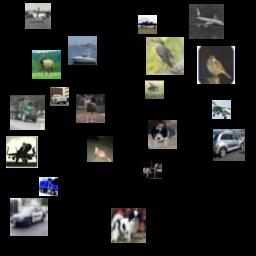airplane: (189, 4, 224, 39), (6, 136, 38, 168), (212, 100, 231, 119), (138, 15, 157, 34)
automobile: (10, 198, 48, 236), (213, 129, 245, 161), (50, 87, 69, 106)
bird: (146, 37, 184, 75), (197, 46, 235, 84)
cat: (87, 136, 113, 162)
deer: (32, 50, 61, 79), (76, 94, 105, 123), (145, 80, 164, 99)
dog: (111, 208, 146, 243), (148, 120, 177, 149)
ship: (68, 36, 97, 65)
truck: (10, 95, 45, 130), (39, 177, 58, 196)
